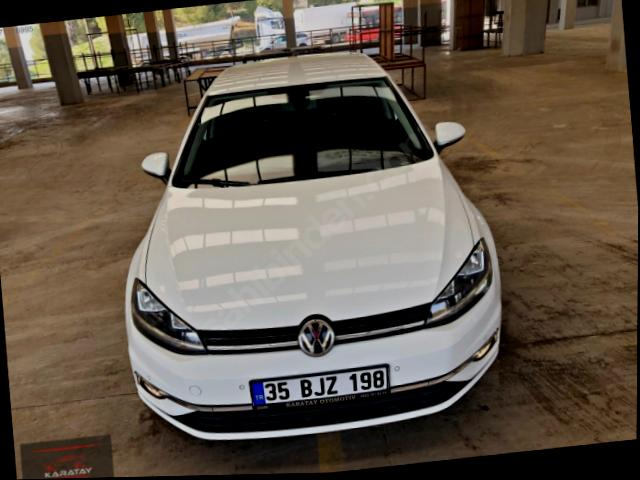plaka: (249, 364, 388, 406)
